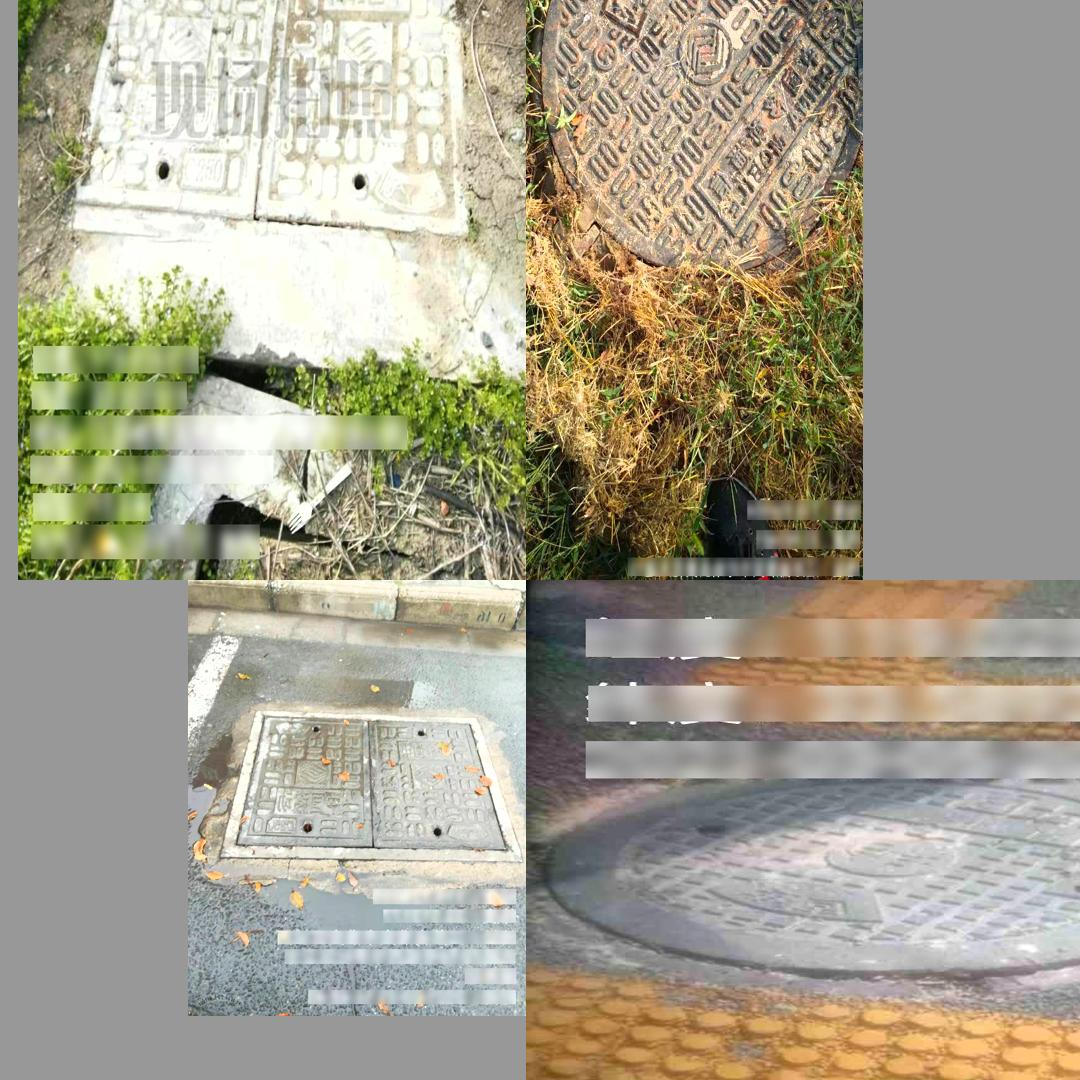good: (534, 765, 1080, 973), (68, 0, 469, 245), (539, 0, 857, 275), (219, 709, 523, 860)
